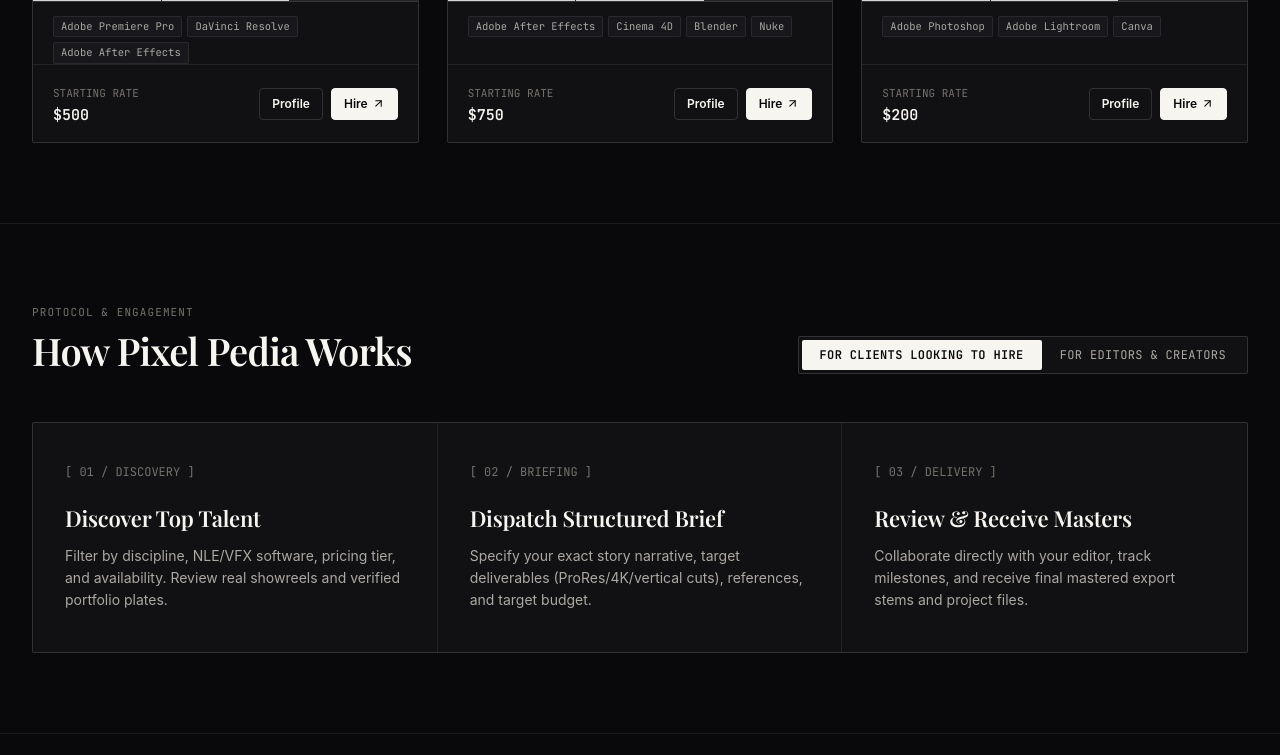
Pixel Pedia — Freelancing Marketplace Homepage & Discovery › toggles "How It Works" between Clients and Editors
(page scrolled)
Expected: the heading "Dispatch Structured Brief" is shown, [470,503,723,533]
Switch to Editors view
Click the button "For Editors & Creators".
click(1143, 355)  # box [1042,340,1244,370]
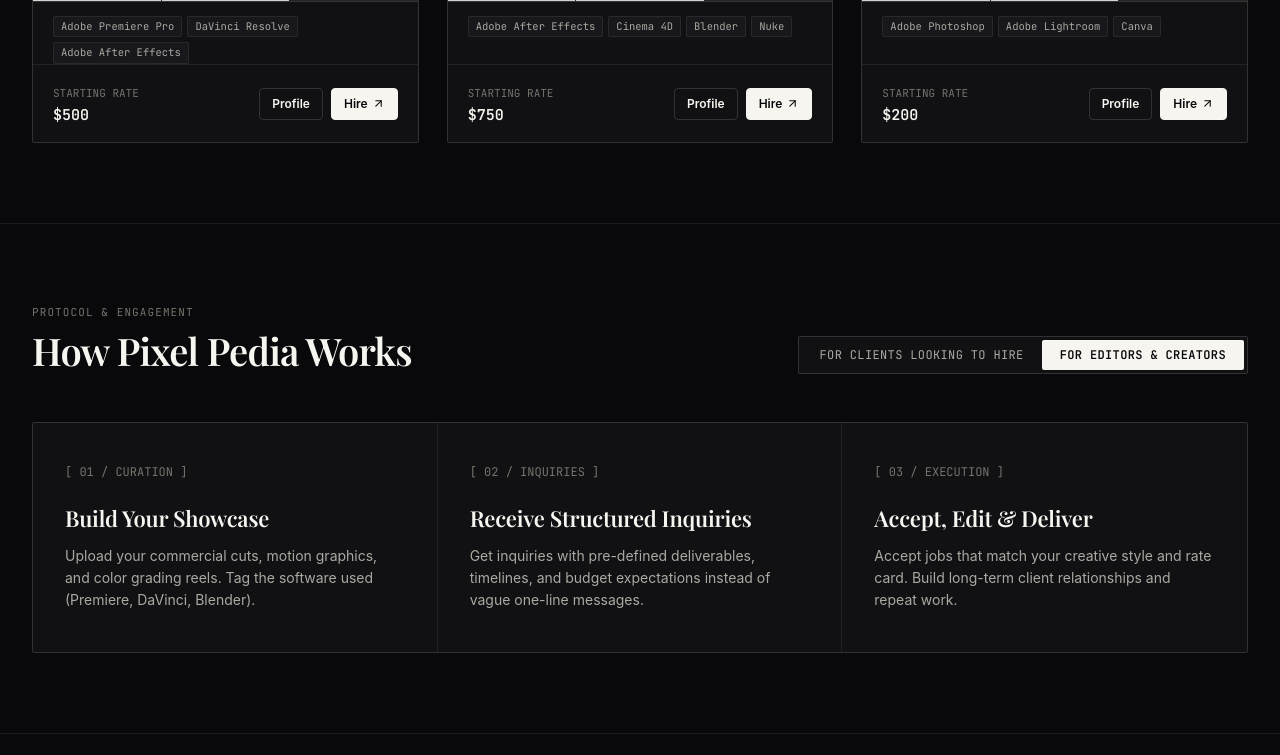
Expected: the heading "Build Your Showcase" is shown, [65,503,269,533]
Expected: the heading "Receive Structured Inquiries" is shown, [470,503,752,533]
